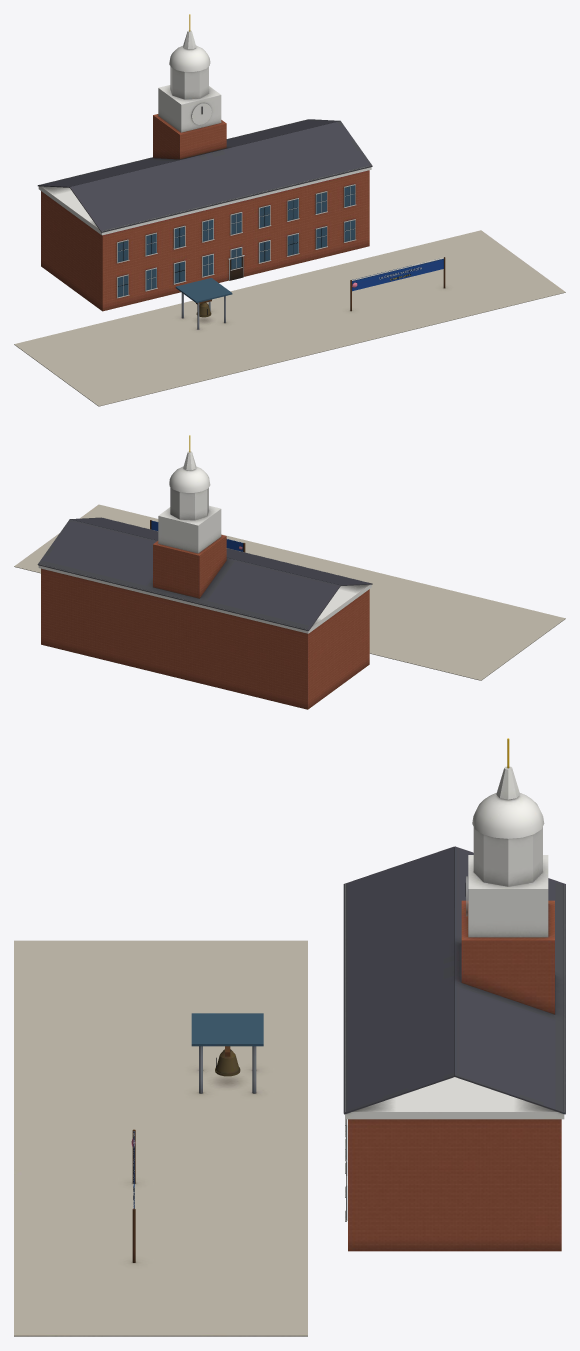
File: salon_independencia.glb
3 views of the same model, one above another, from view 1: azimuth 30°, elevation 25°; view 2: azimuth 150°, elevation 25°; view 3: azimuth 270°, elevation 25° (orthographic). The views are drawn at different scales.
Visible parts, largest first — view 1: salon_independencia; view 2: salon_independencia; view 3: salon_independencia.
Boxes of the visible parts, <box> form: salon_independencia: <box>14,14,565,406</box>; salon_independencia: <box>14,435,565,709</box>; salon_independencia: <box>14,738,565,1336</box>.
Bounding box in the file's own units: 70 × 33.04 × 41.32.
1 material, 1 textured.
